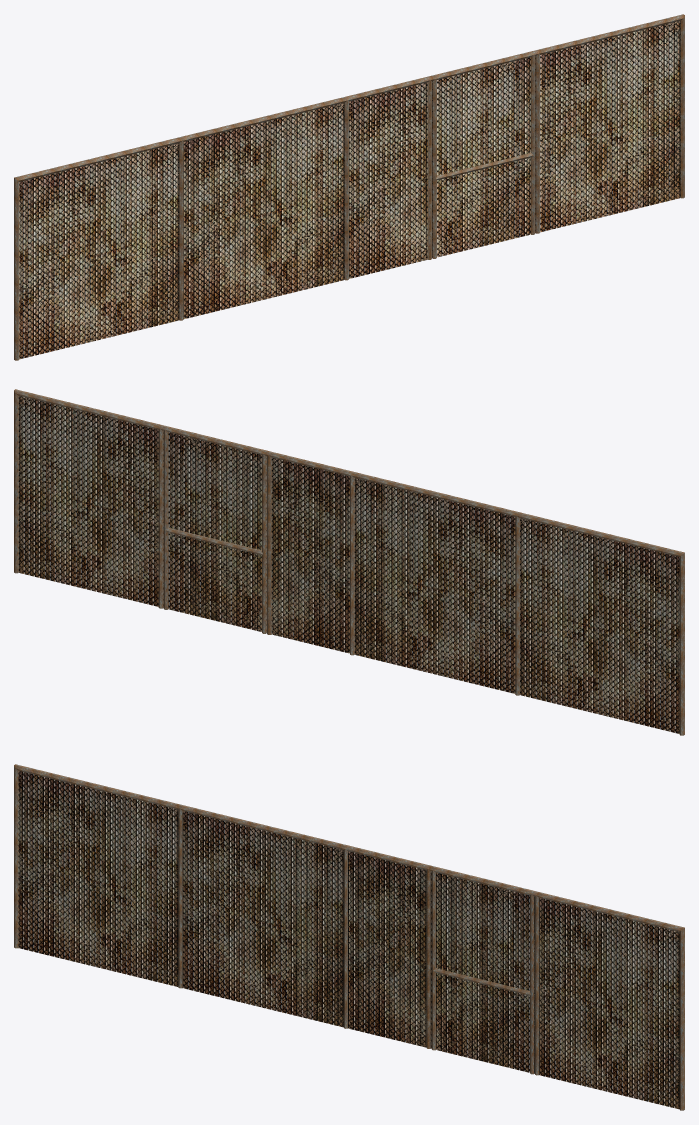
Rendered from fence10m.fbx.
3 renders of one model, top to bottom at view 1: azimuth 30°, elevation 25°; view 2: azimuth 150°, elevation 25°; view 3: azimuth 330°, elevation 25°, orthographic.
Parts seen in each view (by area): view 1: mesh_0, mesh_1; view 2: mesh_0, mesh_1; view 3: mesh_0, mesh_1.
Part boxes in pixels (x1,y1,x2,y2): mesh_0: [19, 21, 680, 359]; mesh_1: [14, 14, 684, 360]; mesh_0: [18, 396, 679, 733]; mesh_1: [14, 389, 684, 735]; mesh_0: [18, 770, 679, 1109]; mesh_1: [14, 764, 684, 1110].
Size of the model in its own units: 1000 by 260 by 7.3.
2 materials, 2 textured.
